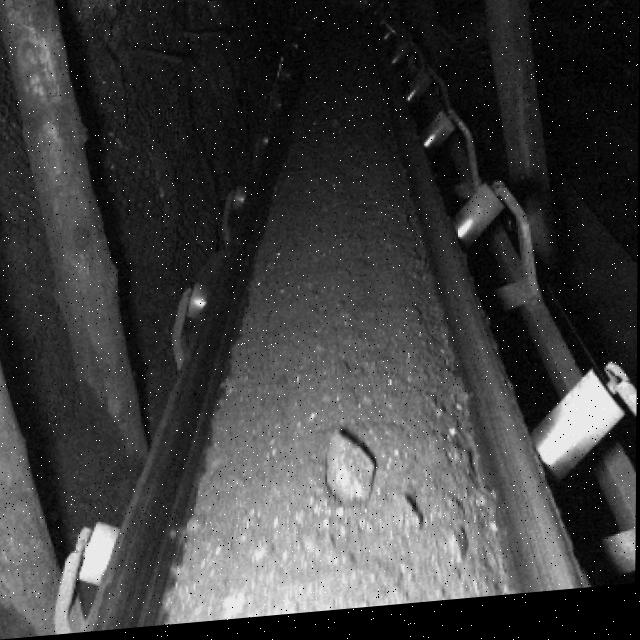large_sized_coal: (326, 435, 379, 515)
